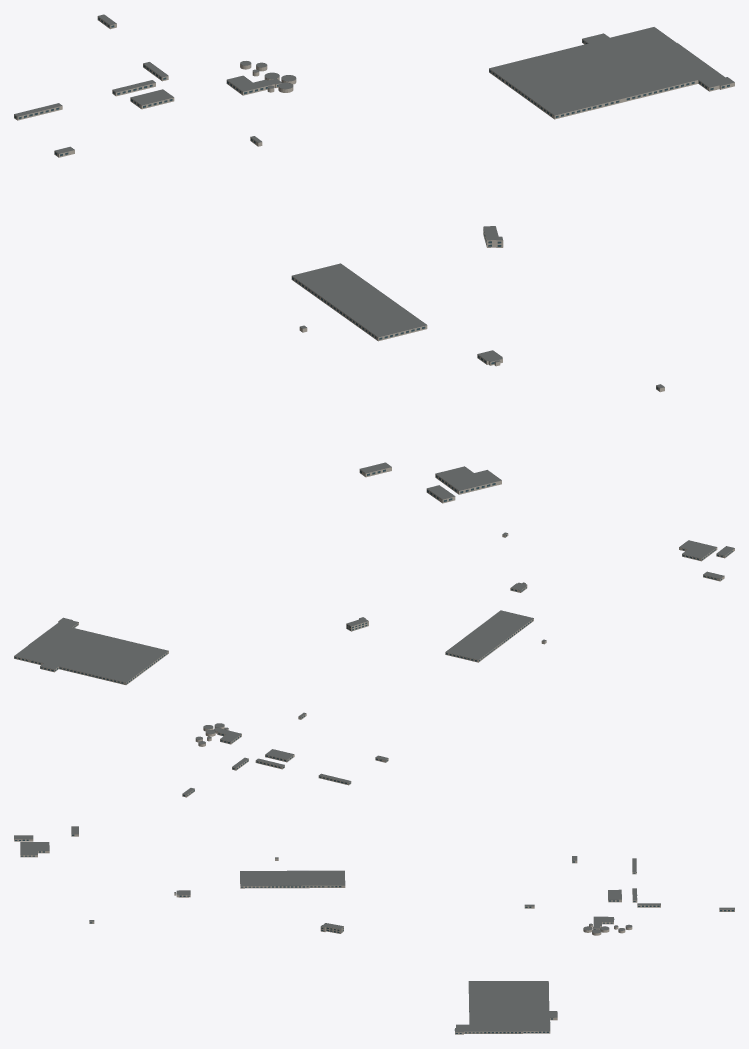
3 views of the same model, one above another, from view 1: azimuth 30°, elevation 25°; view 2: azimuth 150°, elevation 25°; view 3: azimuth 270°, elevation 25° (orthographic). The views are drawn at different scales.
Visible parts, largest first — view 1: Buildings (-2, -6) Roof membrane, Buildings (-2, -6) Masonry brick, Buildings (-2, -6) Architectural tinted glass, Buildings (-2, -6) Metal coping; view 2: Buildings (-2, -6) Roof membrane, Buildings (-2, -6) Masonry brick, Buildings (-2, -6) Architectural tinted glass; view 3: Buildings (-2, -6) Roof membrane, Buildings (-2, -6) Masonry brick, Buildings (-2, -6) Architectural tinted glass.
Part boxes in pixels (x1,y1,x2,y2): Buildings (-2, -6) Roof membrane: (14,14,734,499); Buildings (-2, -6) Masonry brick: (14,16,734,503); Buildings (-2, -6) Architectural tinted glass: (14,18,729,501); Buildings (-2, -6) Metal coping: (14,14,734,499); Buildings (-2, -6) Roof membrane: (14,532,734,794); Buildings (-2, -6) Masonry brick: (14,533,734,797); Buildings (-2, -6) Architectural tinted glass: (14,535,732,796); Buildings (-2, -6) Roof membrane: (14,826,734,1032); Buildings (-2, -6) Masonry brick: (14,834,734,1034); Buildings (-2, -6) Architectural tinted glass: (15,834,733,1033).
Bounding box in the file's own units: 630 × 8.19 × 936.
